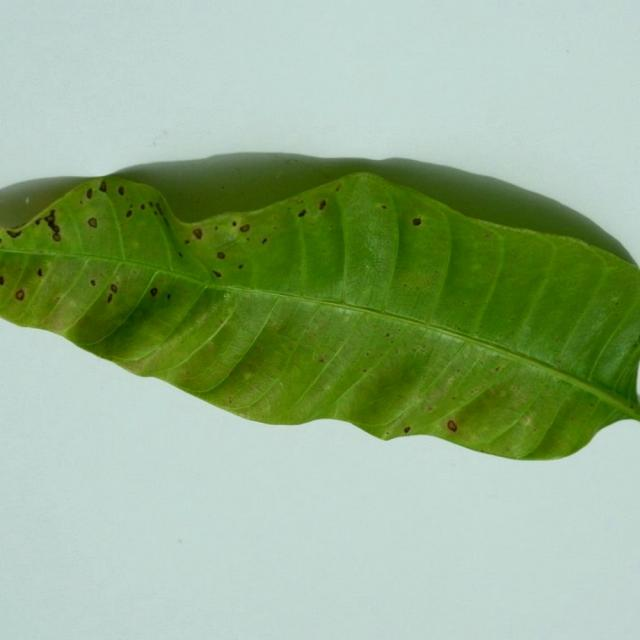Anthracnose: (315, 321, 452, 425), (109, 187, 172, 230), (102, 271, 157, 318), (6, 203, 62, 244), (190, 239, 234, 285), (409, 205, 442, 244), (295, 198, 328, 220), (7, 228, 22, 238), (15, 289, 25, 301), (87, 218, 98, 228), (521, 416, 532, 426), (99, 180, 107, 192), (241, 223, 251, 232), (554, 355, 563, 365), (117, 186, 125, 196), (412, 218, 422, 226), (86, 188, 93, 199), (125, 209, 133, 218), (297, 209, 306, 217), (36, 268, 44, 277), (217, 251, 226, 259), (277, 326, 285, 335), (243, 372, 252, 380), (106, 293, 113, 303), (242, 409, 250, 417), (0, 276, 5, 286), (90, 278, 96, 286), (335, 185, 341, 192), (177, 251, 183, 258), (227, 396, 233, 403), (53, 297, 60, 303), (636, 338, 640, 348), (231, 221, 237, 227), (629, 403, 635, 409), (636, 400, 640, 409), (318, 358, 324, 363), (555, 337, 561, 342), (485, 233, 491, 238), (589, 402, 595, 407), (0, 238, 4, 245), (495, 366, 500, 371), (385, 332, 390, 337), (461, 301, 466, 306), (381, 205, 387, 209), (293, 159, 299, 163), (214, 226, 218, 231), (615, 301, 620, 305), (365, 352, 370, 356), (402, 283, 407, 287), (220, 185, 225, 189), (363, 369, 367, 373)
Mango: (0, 155, 639, 464)
